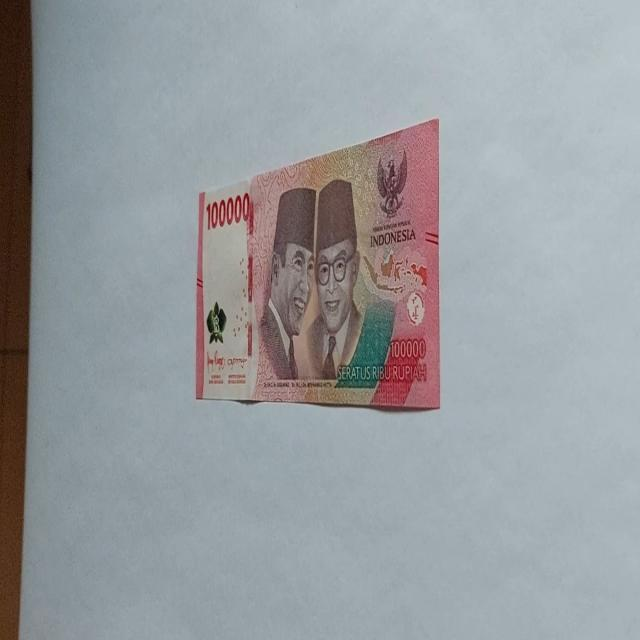seratus ribu rupiah: (195, 117, 441, 411), (254, 178, 396, 394)
